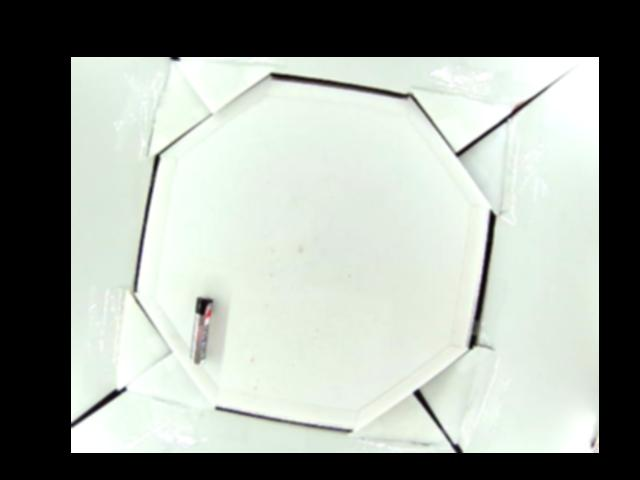Battery: (191, 296, 214, 367)
